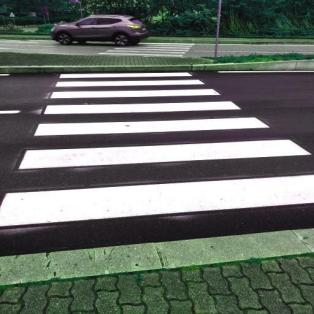Paso de Cebra: (0, 137, 314, 232), (39, 87, 243, 118)
